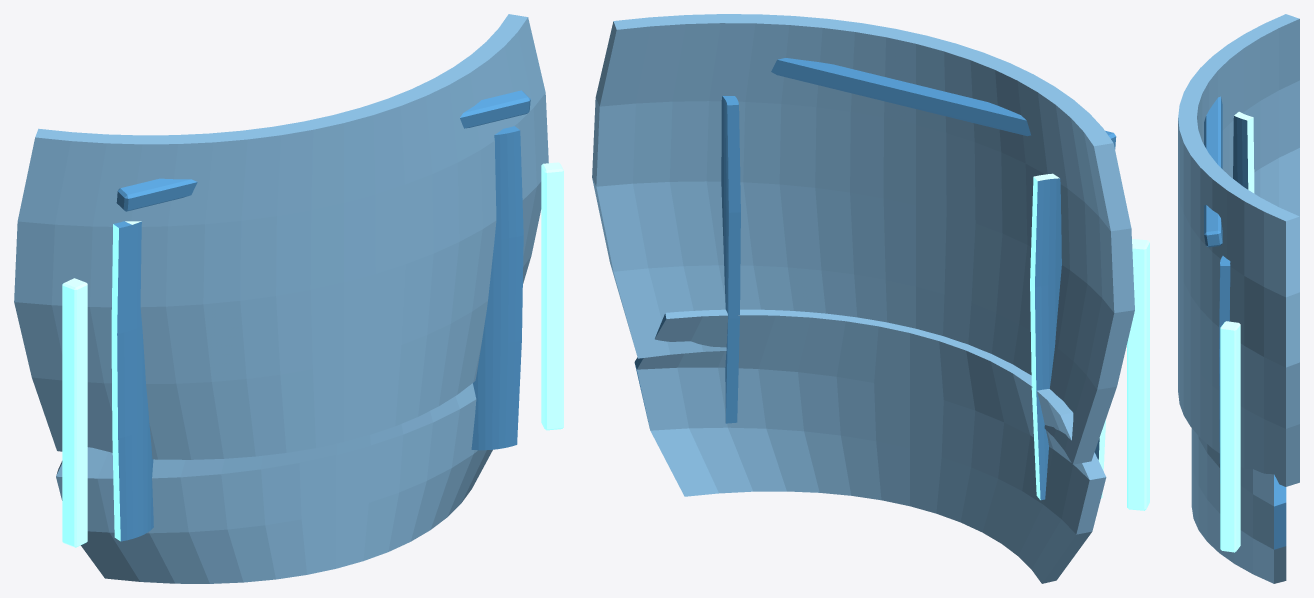
The model's file is chest.glb.
The picture shows the model from 3 angles, left to right: view 1: azimuth 30°, elevation 25°; view 2: azimuth 150°, elevation 25°; view 3: azimuth 270°, elevation 25°; orthographic projection. The views are drawn at different scales.
Parts seen in each view (by area): view 1: armor_chest_v001; view 2: armor_chest_v001; view 3: armor_chest_v001.
Boxes of the visible parts, x1,y1,x2,y2 form: armor_chest_v001: (14,14,563,583); armor_chest_v001: (592,14,1149,583); armor_chest_v001: (1178,14,1299,583).
Size of the model in its own units: 0.6232 by 0.5025 by 0.1424.
